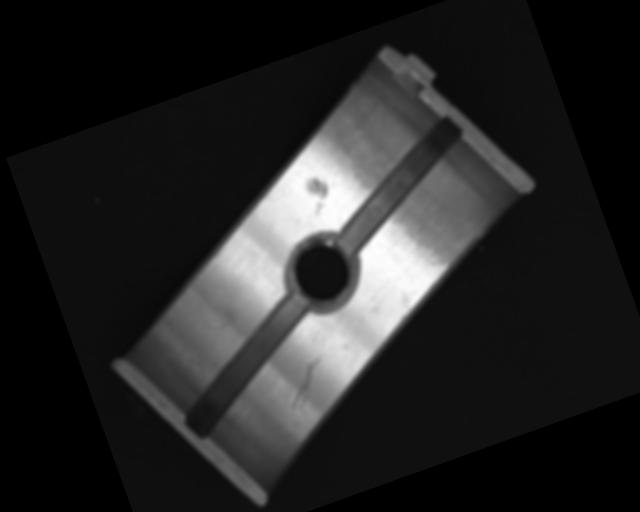bruise: (303, 172, 335, 217)
gap: (155, 290, 337, 442), (313, 114, 486, 258)
hole: (273, 227, 365, 318)
nick: (277, 353, 333, 413), (209, 317, 236, 331)
